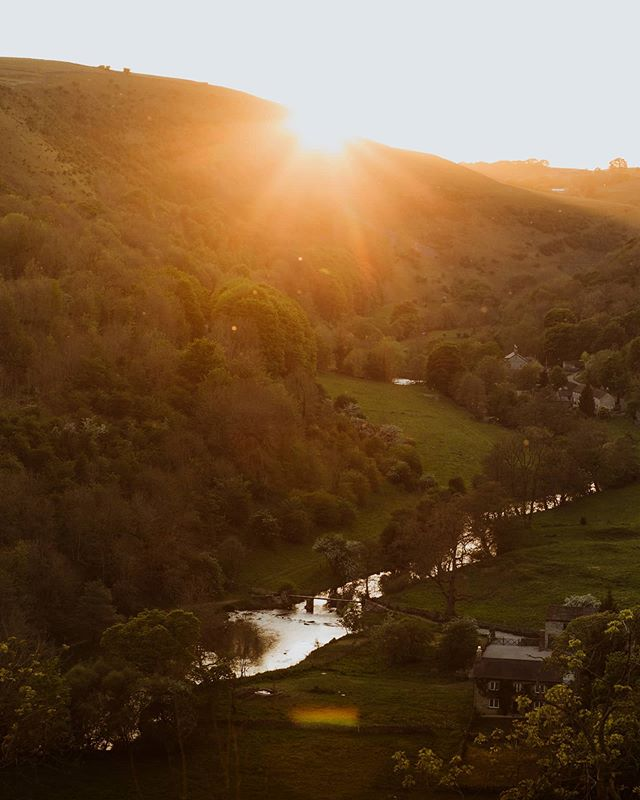building: (459, 610, 613, 724)
mountain: (31, 35, 607, 264)
river: (124, 472, 598, 730)
sun: (290, 90, 372, 137)
vegetation: (1, 171, 539, 607)
